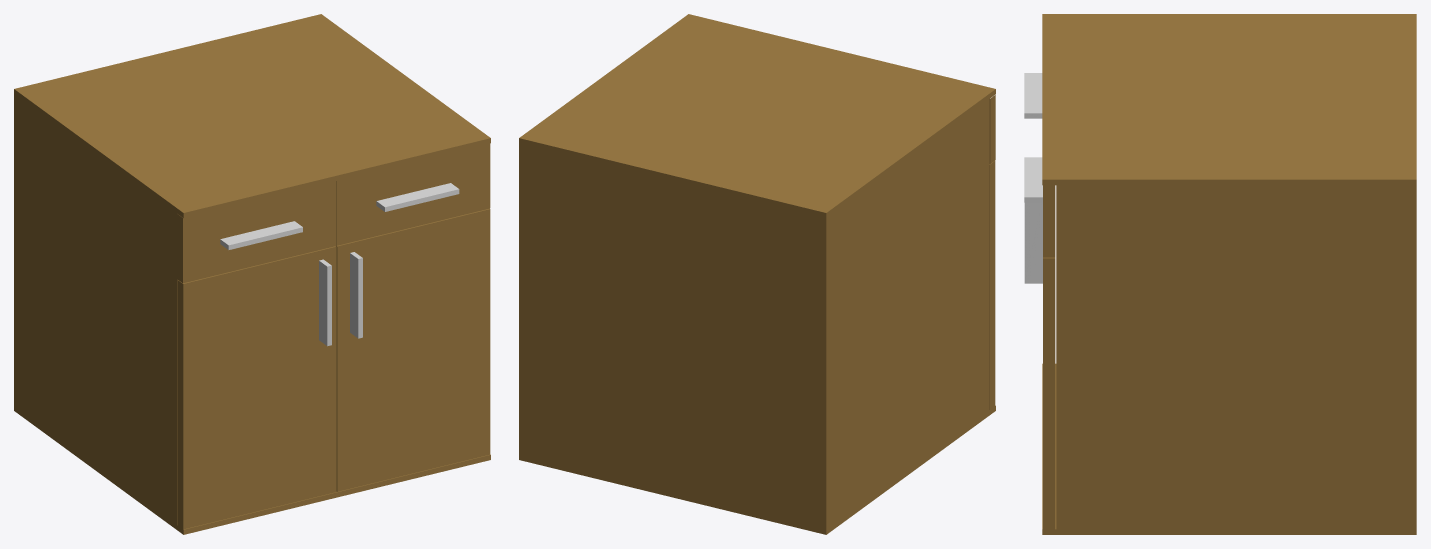
File: sh-contrib-kommode.glb
3 views of the same model, side by side, from view 1: azimuth 30°, elevation 25°; view 2: azimuth 150°, elevation 25°; view 3: azimuth 270°, elevation 25° (orthographic). The views are drawn at different scales.
Parts seen in each view (by area): view 1: Mesh7_Komponente_1_1_Model; view 2: Mesh7_Komponente_1_1_Model; view 3: Mesh7_Komponente_1_1_Model.
Part boxes in pixels (bbox=[...]): Mesh7_Komponente_1_1_Model: bbox=[14, 14, 490, 534]; Mesh7_Komponente_1_1_Model: bbox=[519, 14, 995, 534]; Mesh7_Komponente_1_1_Model: bbox=[1024, 14, 1416, 534].
Bounding box in the file's own units: 1 × 1 × 1.
